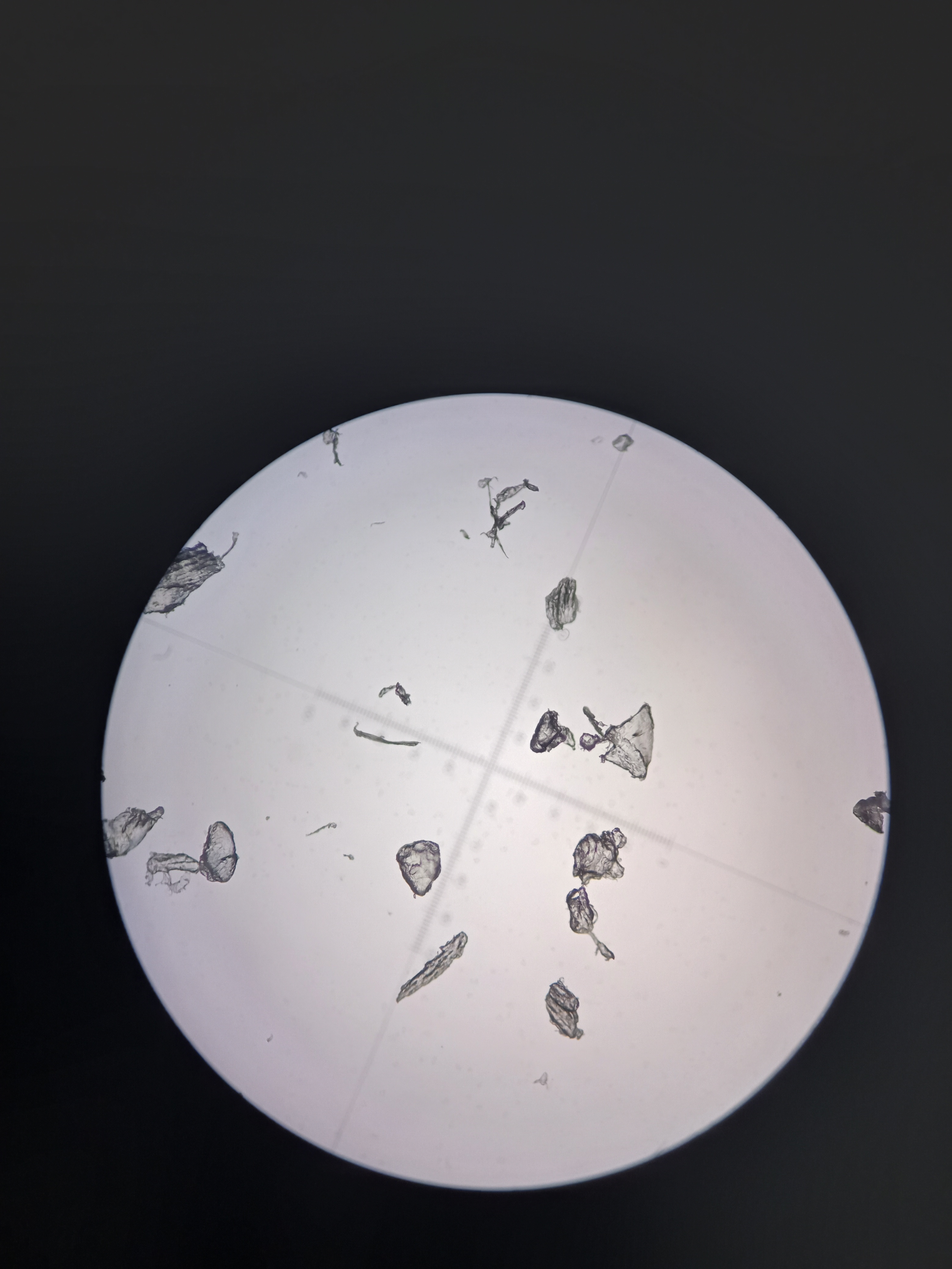microplastic: (145, 530, 243, 615), (143, 819, 242, 897), (578, 703, 658, 783), (395, 929, 476, 1005), (477, 475, 545, 565), (567, 881, 621, 963), (100, 802, 167, 861), (570, 827, 629, 886), (543, 974, 589, 1042), (542, 577, 587, 645), (396, 839, 443, 900), (351, 720, 422, 753), (532, 708, 576, 759), (852, 788, 895, 840), (376, 680, 416, 709), (320, 427, 346, 469), (305, 821, 337, 841), (609, 433, 634, 454), (533, 1068, 555, 1091), (458, 529, 473, 540), (342, 852, 355, 863), (298, 470, 308, 483)
